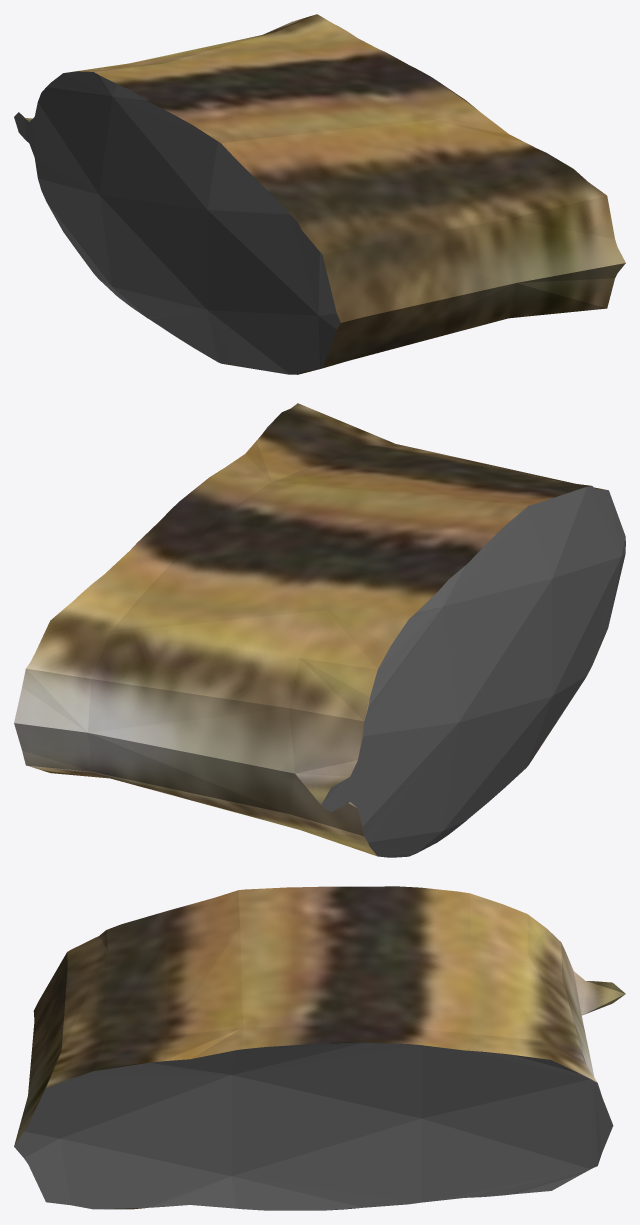
The picture shows the model from 3 angles, top to bottom: view 1: azimuth 30°, elevation 25°; view 2: azimuth 150°, elevation 25°; view 3: azimuth 270°, elevation 25°; orthographic projection. The views are drawn at different scales.
Visible parts, largest first — view 1: link_12_visual; view 2: link_12_visual; view 3: link_12_visual.
Boxes of the visible parts, <box> form: link_12_visual: <box>14,14,625,374</box>; link_12_visual: <box>14,403,625,857</box>; link_12_visual: <box>14,886,625,1210</box>.
Bounding box in the file's own units: 0.00111 × 0.000728 × 0.0018.
1 material, 1 textured.
